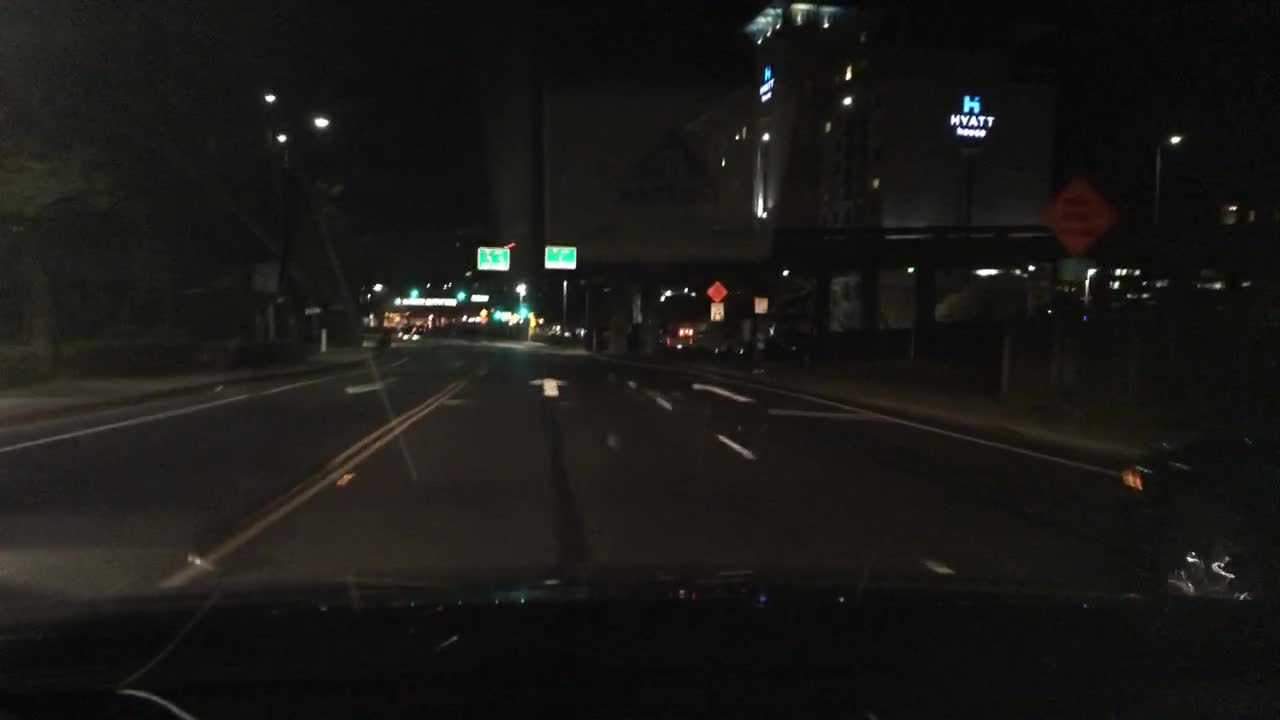car: (1110, 418, 1279, 606), (657, 324, 697, 350), (396, 324, 421, 344)
traffic light: (516, 304, 528, 319), (455, 287, 465, 299), (492, 310, 501, 321), (410, 289, 418, 299)
traffic sign: (1038, 178, 1121, 259), (250, 257, 281, 295), (473, 247, 509, 270), (542, 244, 575, 269), (705, 280, 728, 302), (709, 301, 726, 323), (425, 297, 456, 307), (754, 296, 769, 315), (472, 294, 489, 303), (400, 299, 425, 305), (479, 309, 487, 316)
